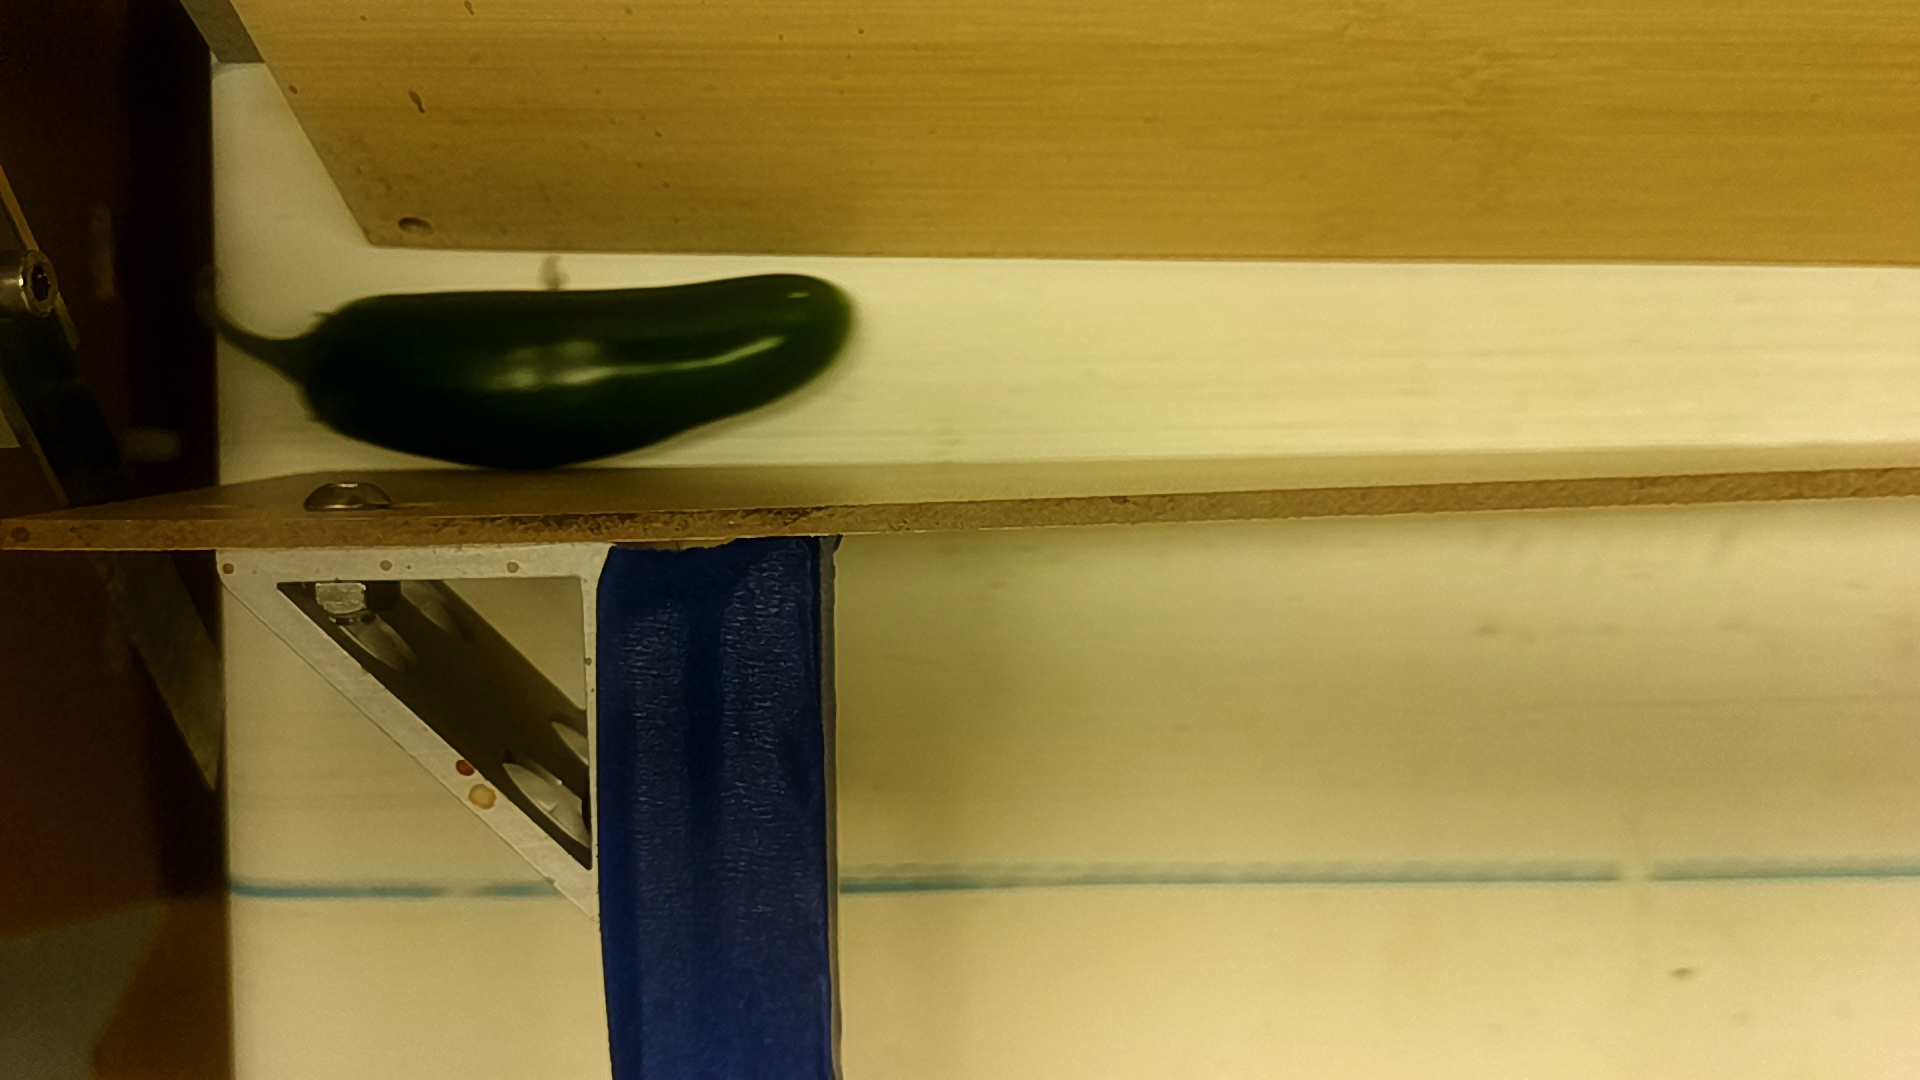Cut Point: (286, 291, 355, 440)
